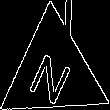N_NE: (27, 40, 80, 103)
